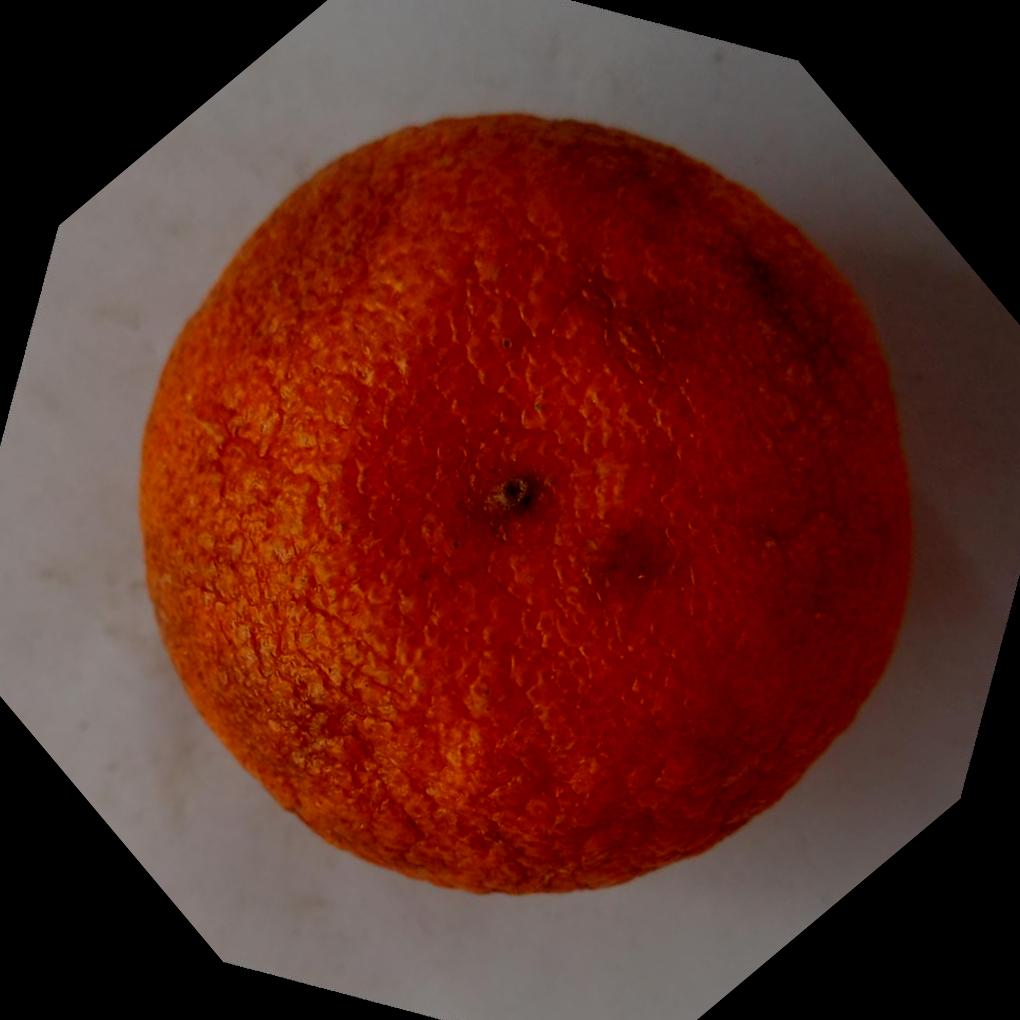FreshOrange: (136, 106, 921, 896)
